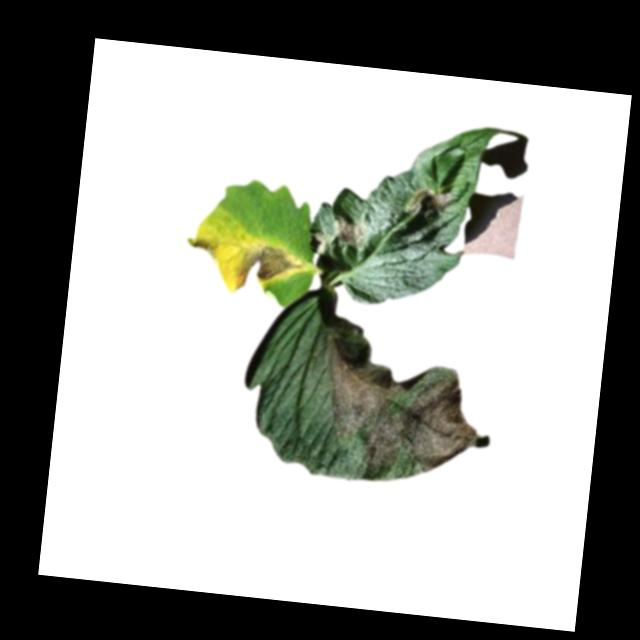Late_blight: (314, 315, 510, 487), (235, 244, 308, 299), (404, 187, 456, 220), (332, 214, 371, 248), (189, 238, 215, 254)
